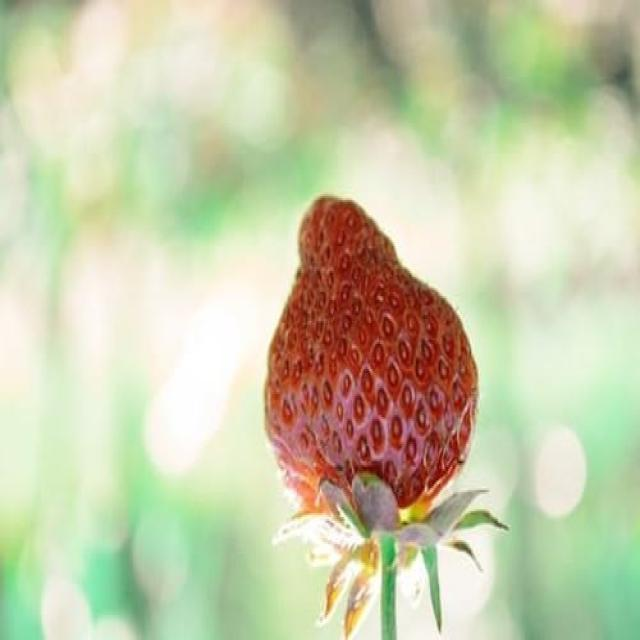Healthy Fruit: (262, 192, 479, 528)
